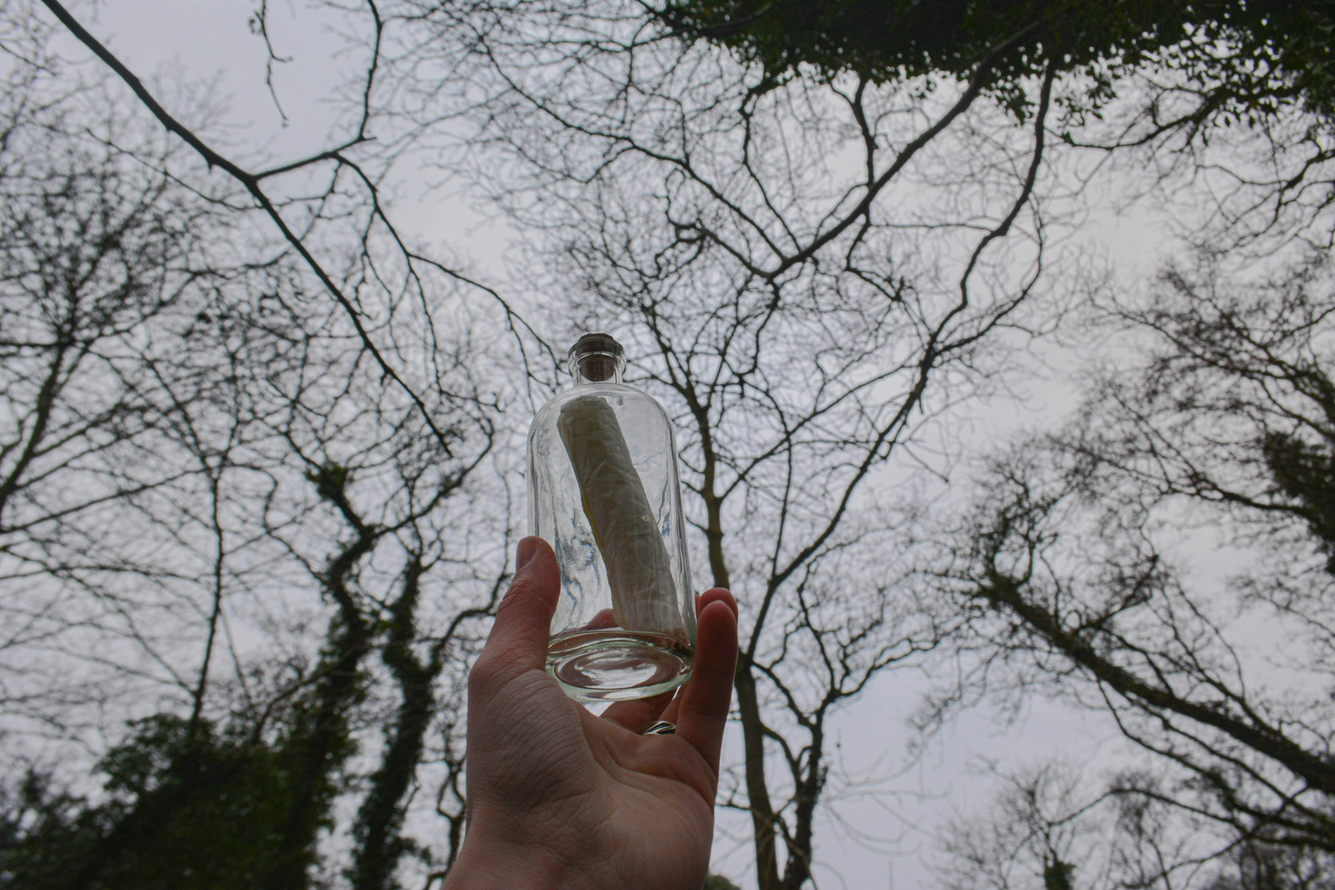Bottle-Detection: (498, 280, 734, 730)
